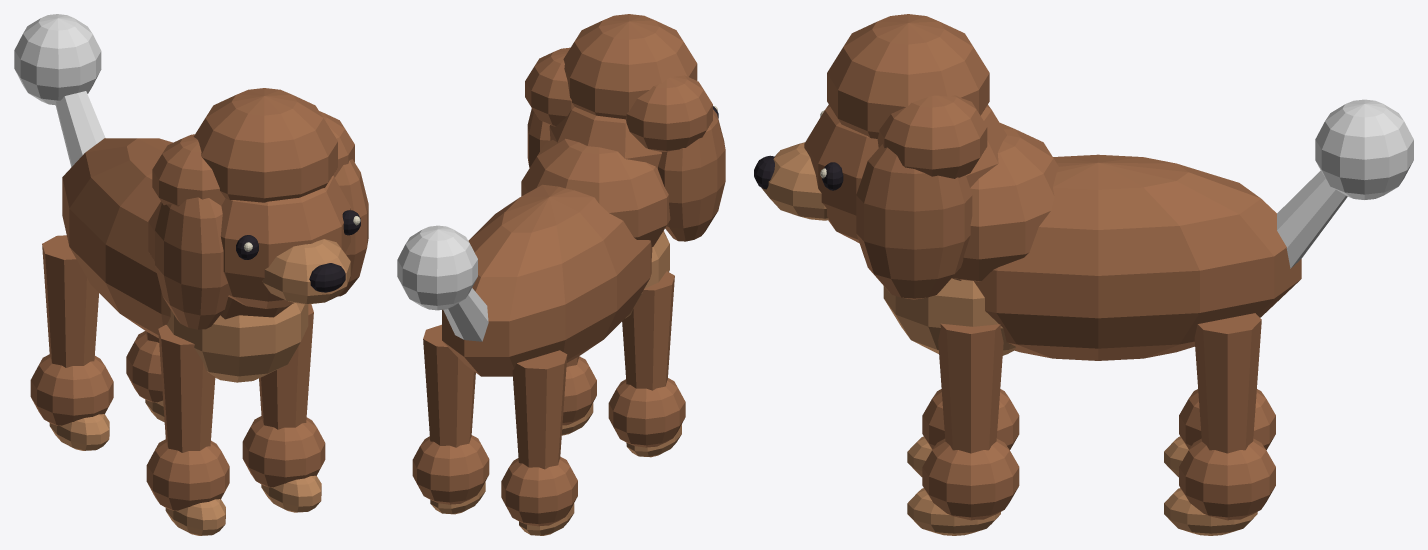
Rendered from poodle.fbx.
3 views of the same model, side by side, from view 1: azimuth 30°, elevation 25°; view 2: azimuth 150°, elevation 25°; view 3: azimuth 270°, elevation 25° (orthographic). The views are drawn at different scales.
Visible parts, largest first — view 1: Body, HindLeft, ForeLeft, ForeRight, Tail, HindRight; view 2: Body, HindLeft, HindRight, ForeLeft, Tail, ForeRight; view 3: Body, HindRight, ForeRight, Tail, ForeLeft, HindLeft.
Part boxes in pixels (x1=…): Body: x1=62, y1=88, x2=368, y2=382; HindLeft: x1=30, y1=235, x2=113, y2=450; ForeLeft: x1=146, y1=325, x2=229, y2=535; ForeRight: x1=242, y1=304, x2=325, y2=512; Tail: x1=14, y1=14, x2=105, y2=166; HindRight: x1=126, y1=331, x2=164, y2=422; Body: x1=442, y1=14, x2=725, y2=376; HindLeft: x1=501, y1=350, x2=577, y2=535; HindRight: x1=412, y1=324, x2=489, y2=514; ForeLeft: x1=608, y1=271, x2=685, y2=457; Tail: x1=397, y1=225, x2=488, y2=341; ForeRight: x1=561, y1=356, x2=596, y2=435; Body: x1=754, y1=14, x2=1301, y2=360; HindRight: x1=1164, y1=313, x2=1275, y2=535; ForeRight: x1=907, y1=323, x2=1019, y2=535; Tail: x1=1277, y1=99, x2=1413, y2=268; ForeLeft: x1=907, y1=389, x2=1019, y2=476; HindLeft: x1=1164, y1=389, x2=1275, y2=477.
Size of the model in its own units: 41.86 by 89.66 by 111.
